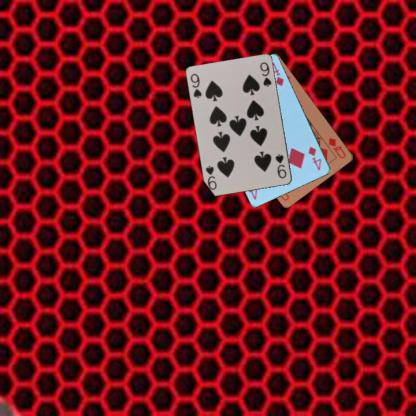4d: (306, 144, 323, 171)
9s: (272, 151, 288, 180), (188, 71, 203, 99)
Qd: (326, 135, 348, 160)
